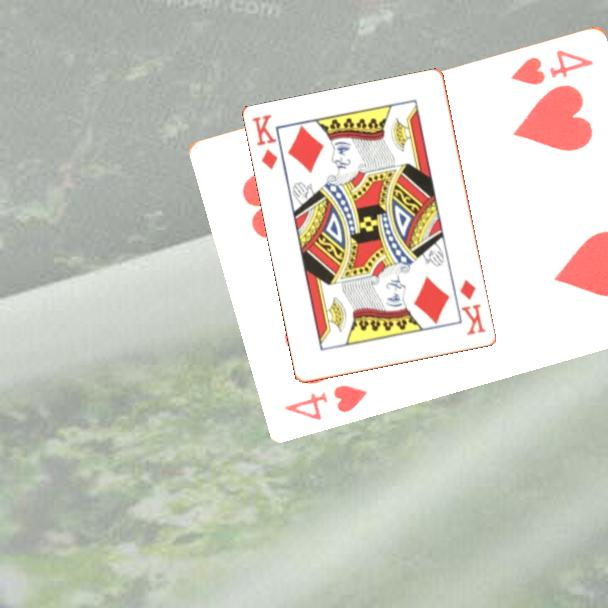d13: (456, 276, 489, 338), (249, 111, 281, 173)
h04: (280, 380, 370, 423), (508, 45, 597, 88)
